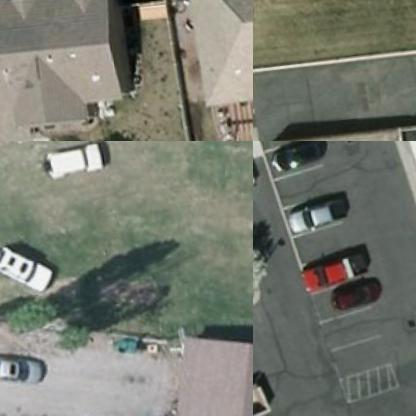car: (278, 182, 352, 236), (0, 241, 62, 298), (298, 244, 370, 289), (41, 141, 109, 177), (272, 141, 334, 171), (327, 276, 381, 304)
